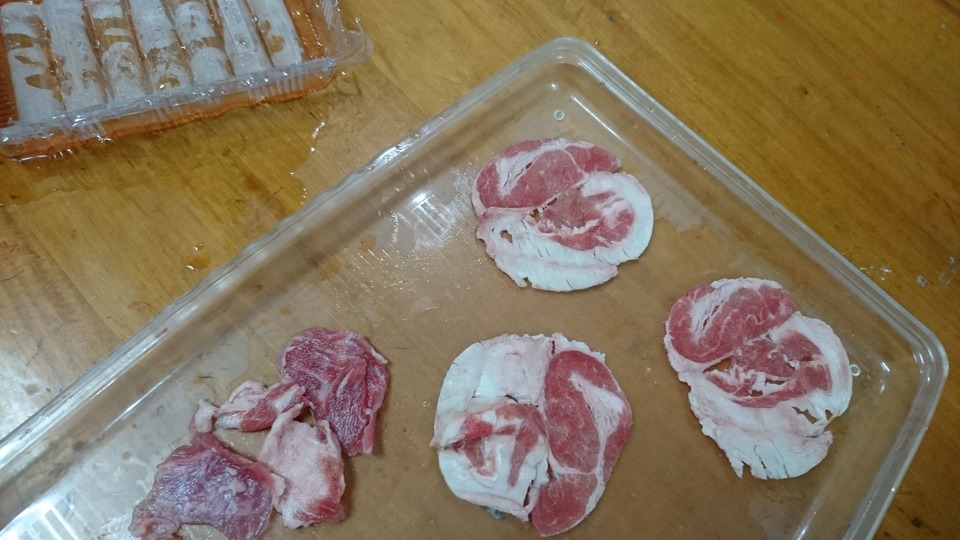restructured meat: (129, 329, 394, 540), (431, 320, 634, 536), (661, 273, 856, 482), (472, 137, 654, 296)
